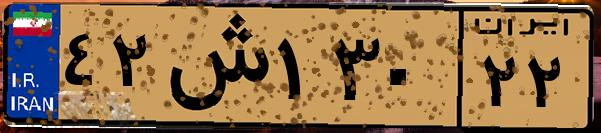0: (385, 28, 445, 110)
1: (270, 28, 330, 110)
2: (475, 38, 525, 113), (525, 38, 570, 115), (110, 28, 158, 98)
3: (330, 28, 385, 110)
4: (57, 26, 110, 100)
ش: (158, 12, 270, 120)
